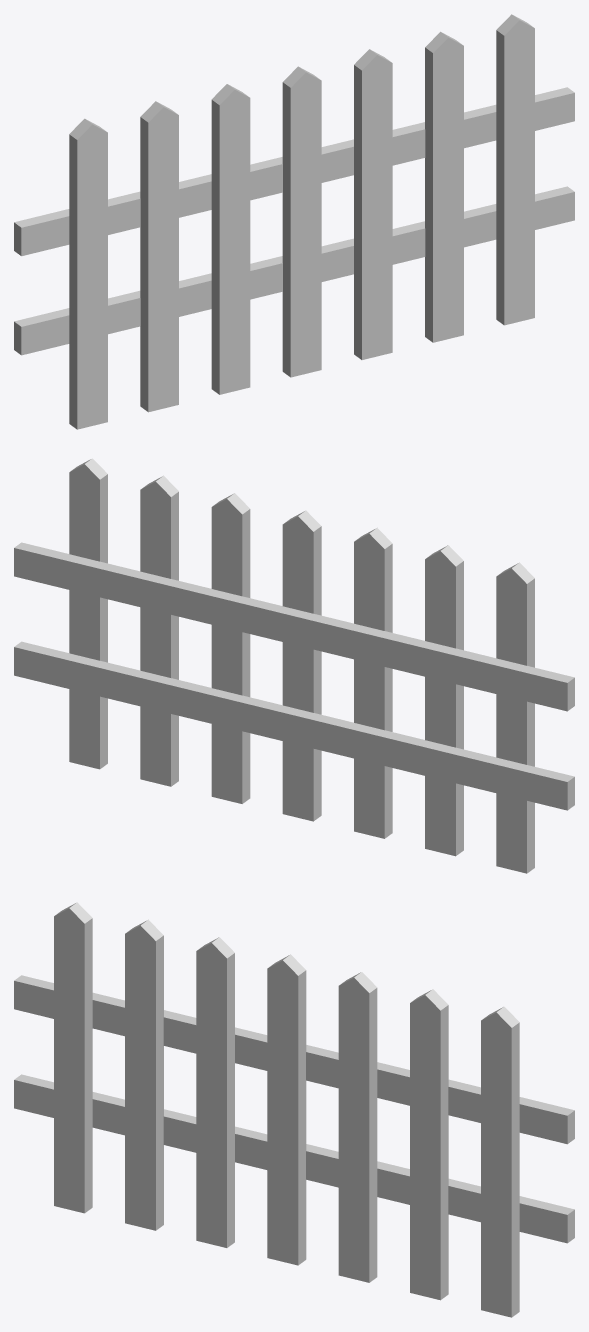
File: Garden Fence.glb
3 renders of one model, top to bottom at view 1: azimuth 30°, elevation 25°; view 2: azimuth 150°, elevation 25°; view 3: azimuth 330°, elevation 25°, orthographic.
Parts seen in each view (by area): view 1: Fence; view 2: Fence; view 3: Fence.
Part boxes in pixels (x1,y1,x2,y2): Fence: (14, 14, 574, 429); Fence: (14, 458, 574, 873); Fence: (14, 902, 574, 1317).
Size of the model in its own units: 2.4 by 1.25 by 0.1154.
1 material, 1 textured.
